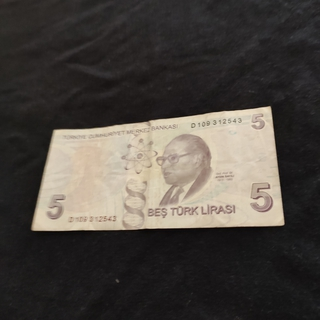5TLBack: (29, 104, 286, 233)
